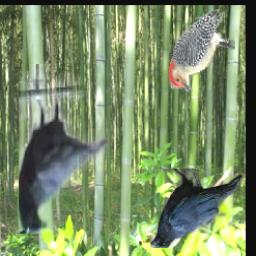Crow: (18, 65, 108, 235), (149, 169, 241, 248)
Woodpecker: (169, 10, 235, 92)
